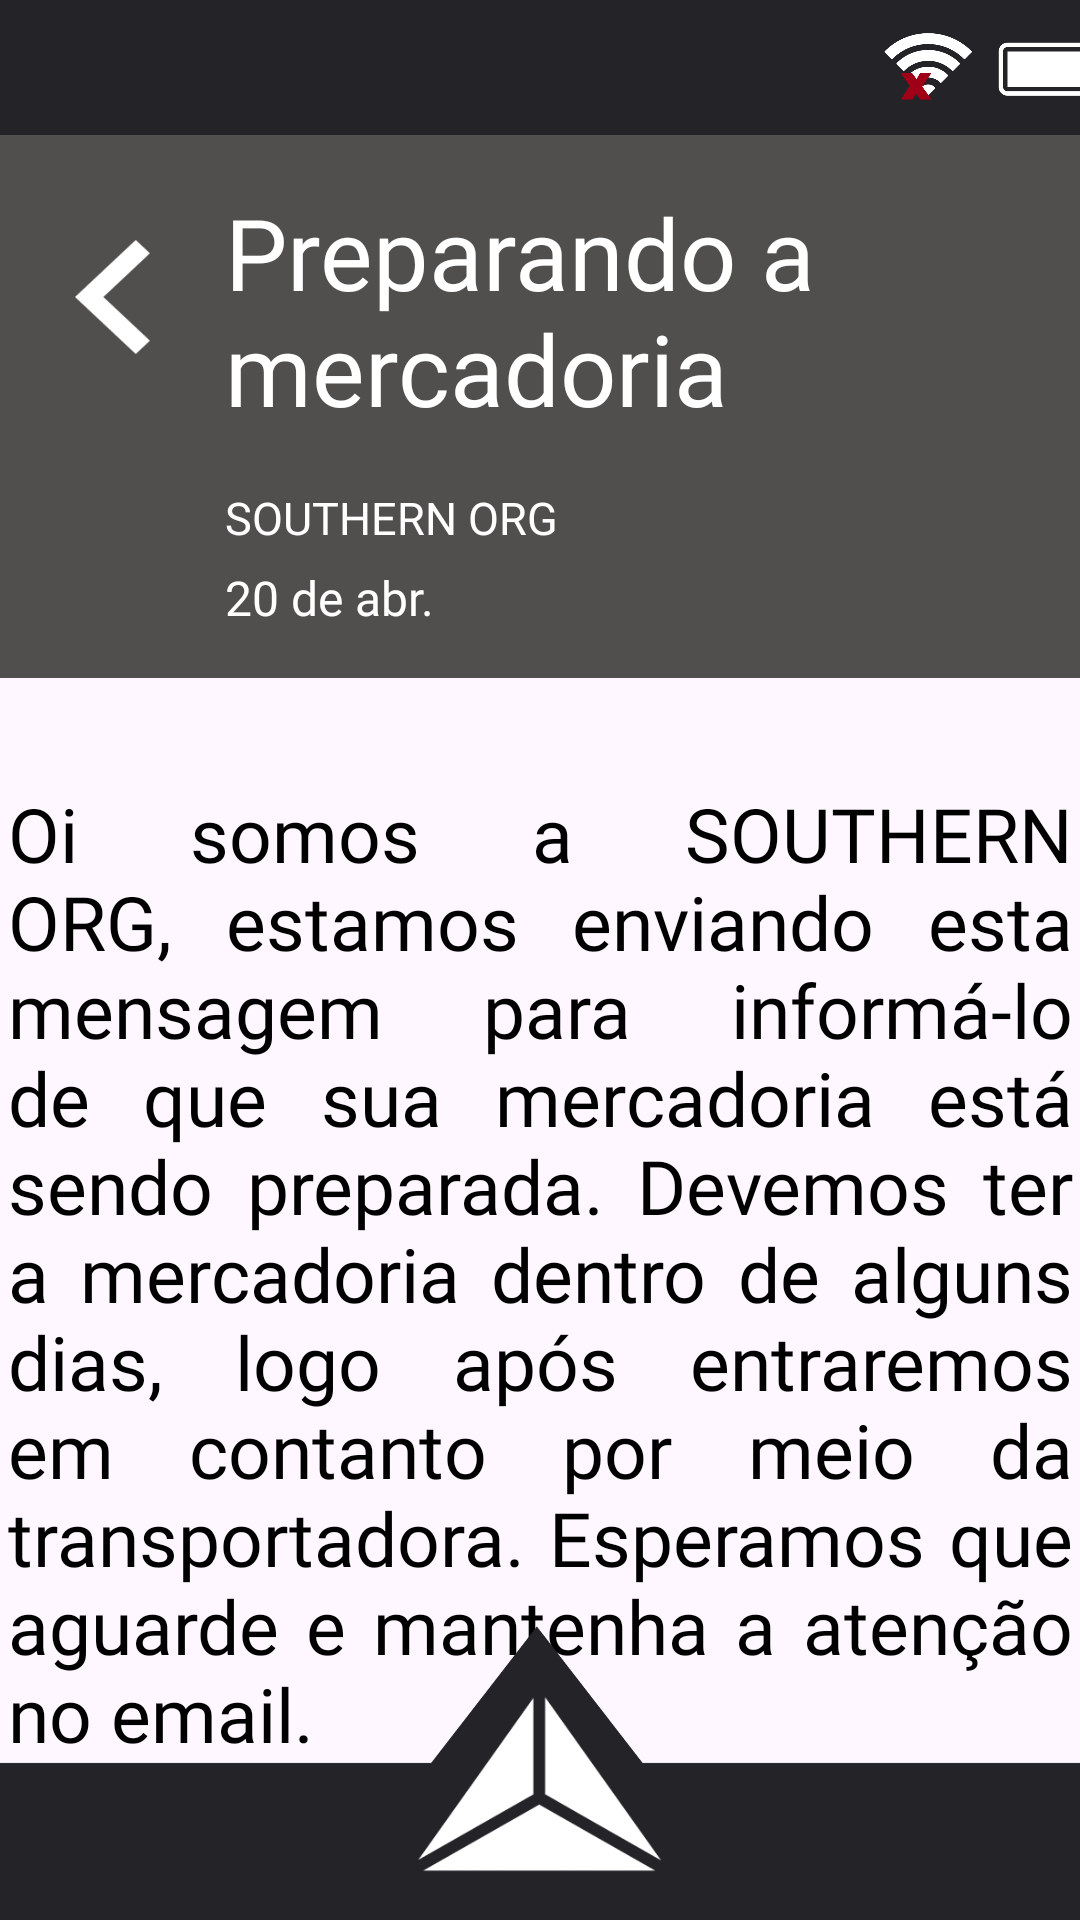

Where icons sit on this 1080px×1920px app screen, as bbox=(x1, y1, x2, y2):
btnvoltaremail: bbox=(75, 240, 150, 354)
